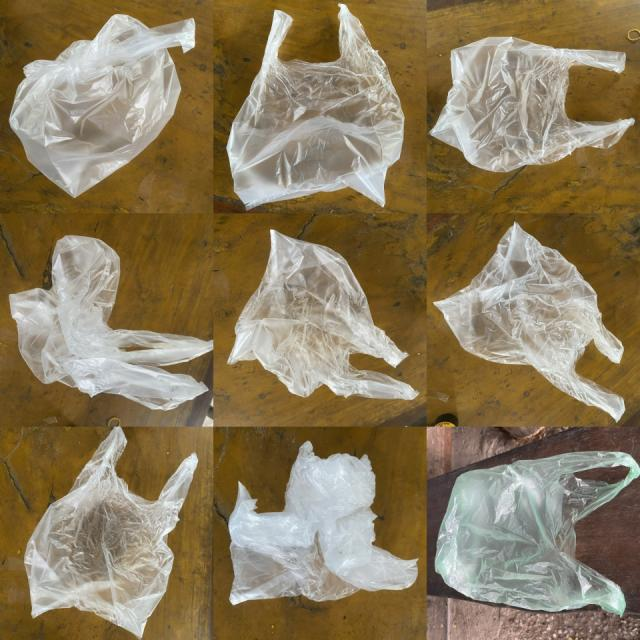Single-layer Plastic: (435, 222, 625, 421), (25, 428, 198, 638), (228, 4, 404, 209), (10, 235, 212, 409), (9, 14, 195, 198), (435, 451, 639, 613), (228, 230, 418, 399), (229, 441, 416, 604), (430, 38, 634, 172)
